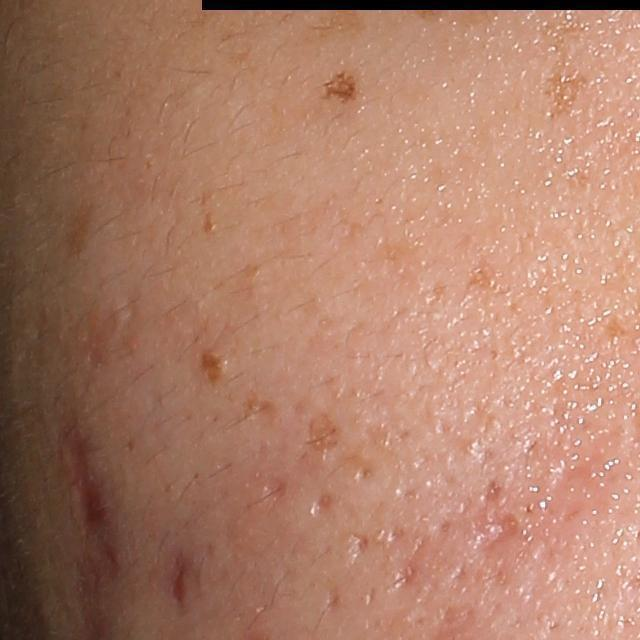atrophic_scar: (378, 512, 466, 594), (471, 476, 526, 571), (167, 545, 197, 612), (347, 532, 370, 573), (324, 576, 344, 619), (260, 475, 290, 503)
melasma: (226, 181, 407, 336), (533, 14, 603, 130), (422, 254, 500, 314), (290, 389, 340, 457), (316, 67, 363, 105), (192, 343, 229, 388)
